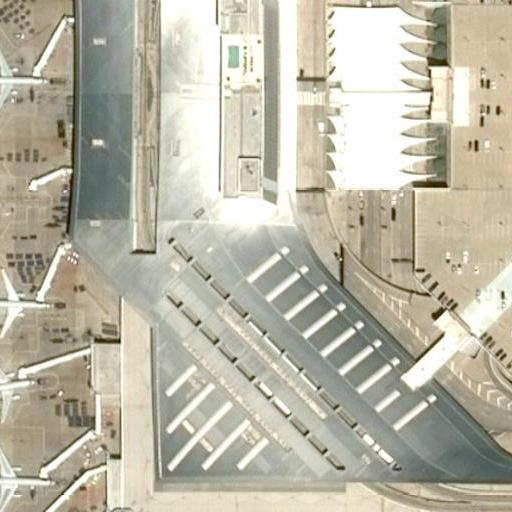Aircraft: (0, 260, 54, 333), (0, 41, 51, 113), (0, 437, 47, 512), (0, 355, 36, 418)
